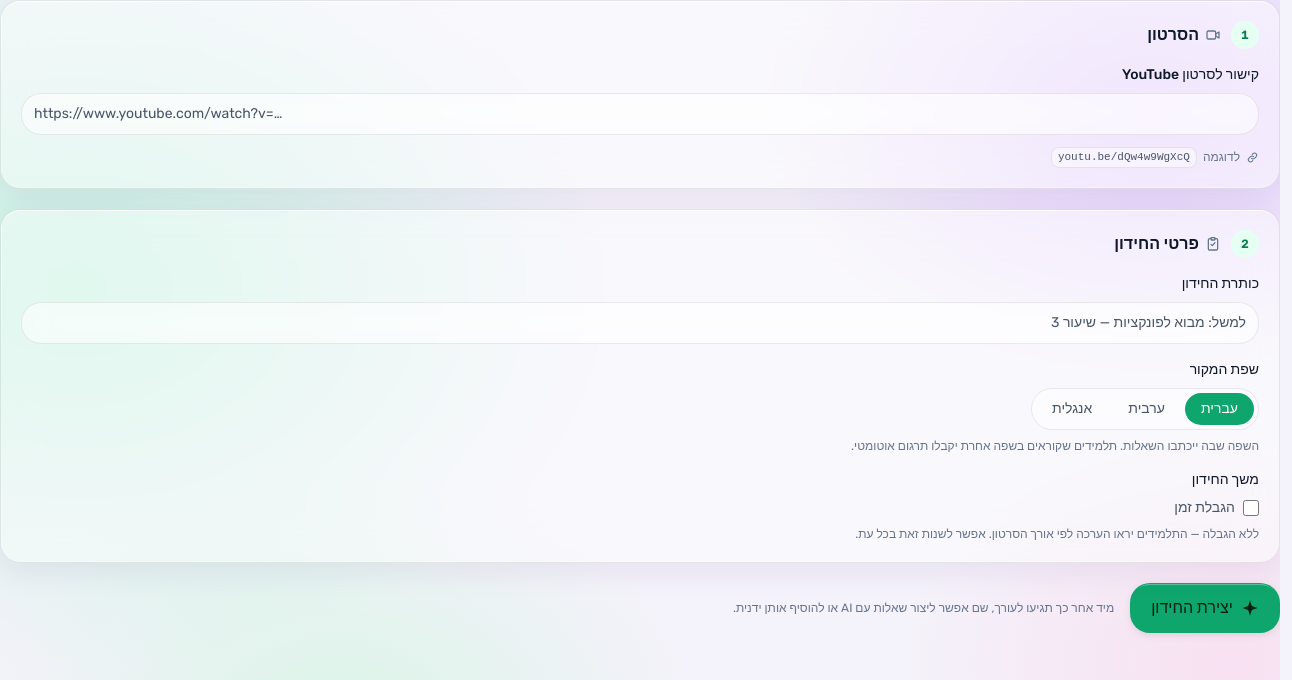
NewQuizForm › echoes the recognised video back as its own thumbnail while typing
The image size is (1292, 680).
Type "https://www.youtube.com/watch?v=aircAruvnKk" into the field labelled "קישור לסרטון YouTube" at (640, 114), box x1=21 y1=93 x2=1259 y2=135
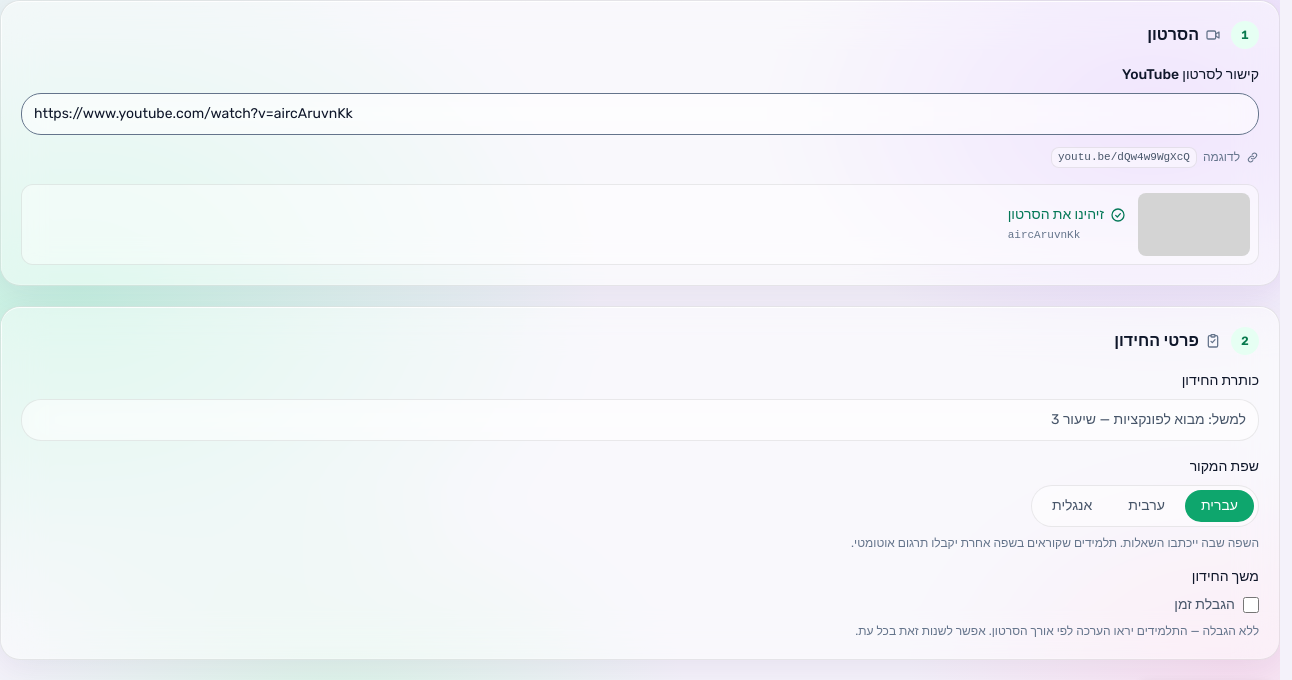
Expected: the text "זיהינו את הסרטון" is shown, x1=1008 y1=205 x2=1126 y2=225
